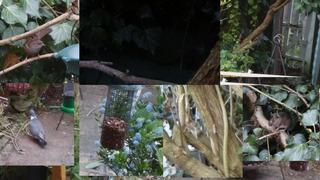dunnock: (23, 27, 53, 64)
mouse: (268, 112, 293, 135)
wood pigeon: (28, 110, 48, 146)
